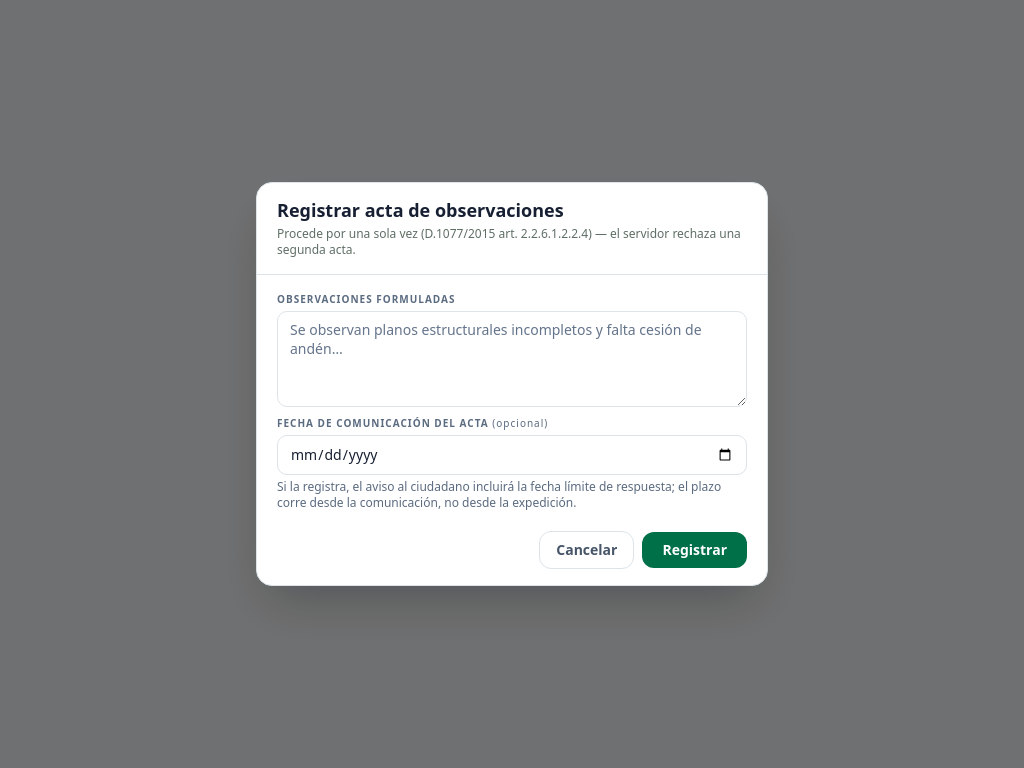
Test: RegistrarActuacionModal — confirmación del aviso al ciudadano (acta-observaciones) › aviso NO enviado: muestra la advertencia explícita en vez de cerrarse en silencio
The image size is (1024, 768).
Step 1. Replace the text in the text box labelled "Observaciones formuladas" with "Se observan planos estructurales incompletos." → (512, 359), box [277, 311, 747, 407]
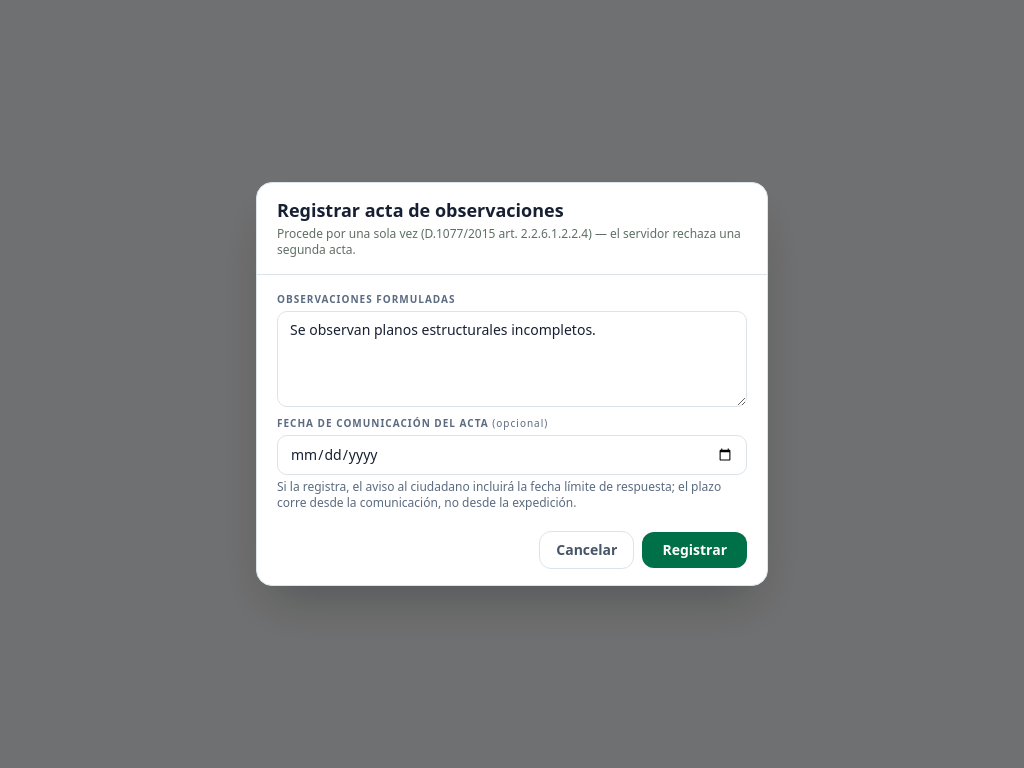
Step 2. Click the button "Registrar" → (695, 550), box [642, 532, 747, 568]
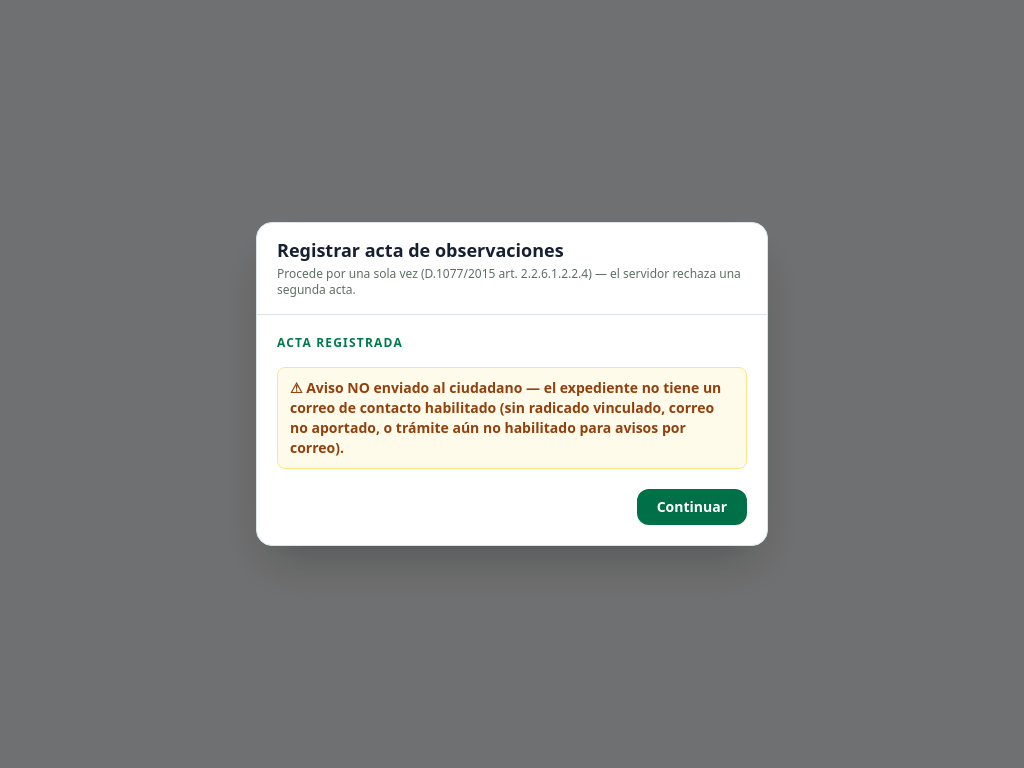
Expected: the message shows "Aviso NO enviado al ciudadano", [290, 378, 721, 457]
